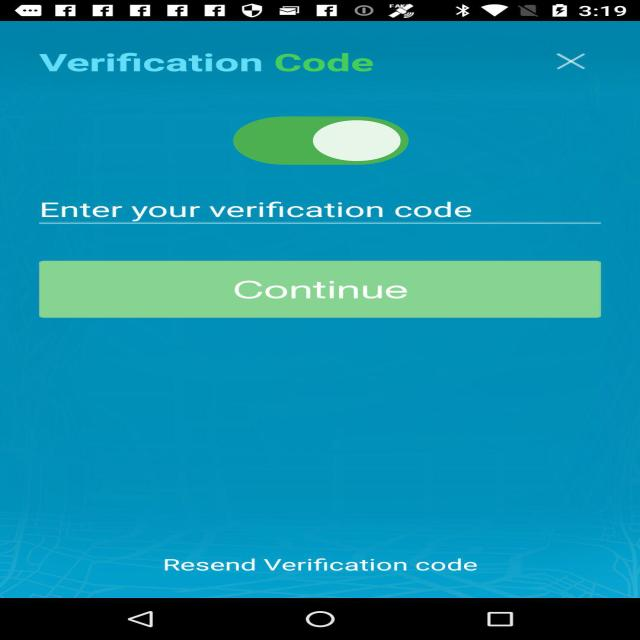social proof: (225, 98, 417, 187)
